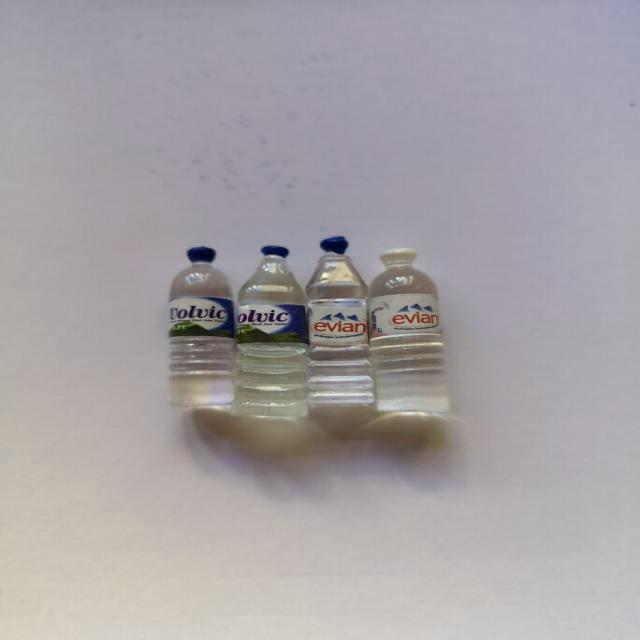bottle: (369, 249, 452, 413), (235, 245, 308, 420), (305, 236, 375, 408), (167, 246, 235, 407)
